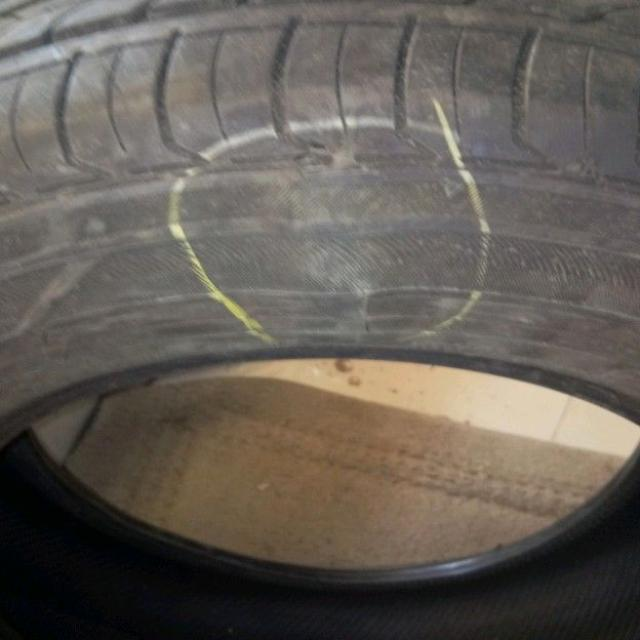Bulge: (268, 149, 441, 326)
